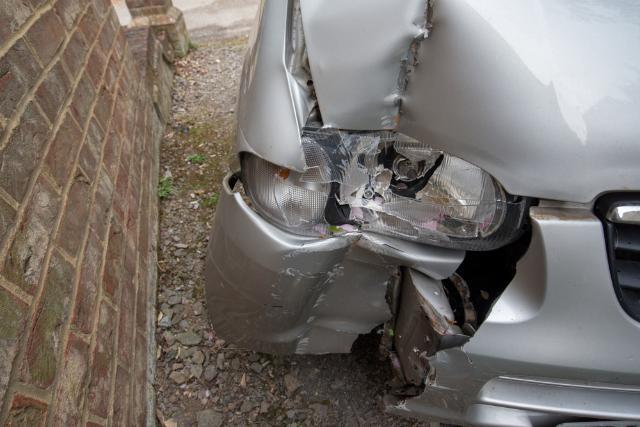crack: (347, 254, 517, 411)
dent: (310, 0, 470, 147), (269, 235, 395, 355)
lamp broken: (241, 124, 509, 250)
